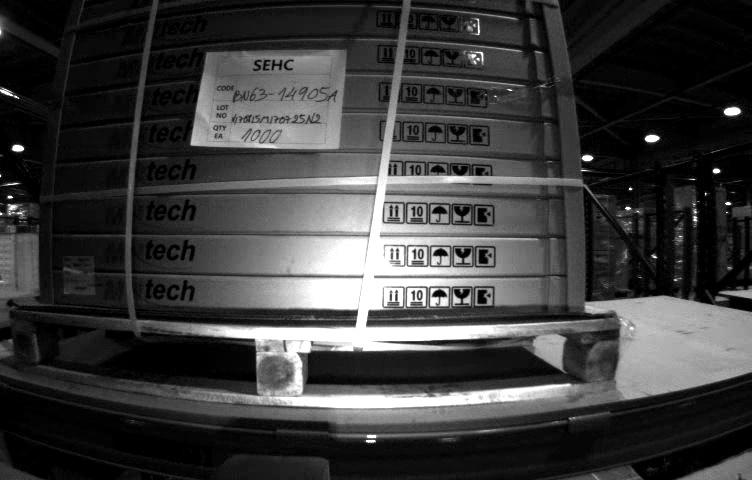True Barcode: (63, 255, 94, 295)
